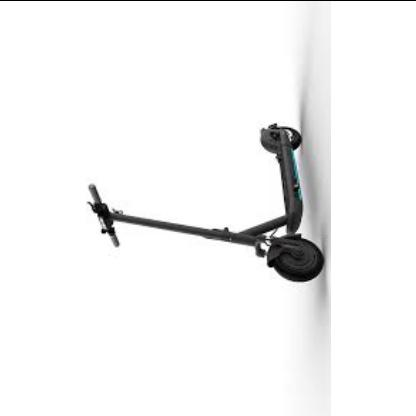bike: (86, 123, 325, 284)
